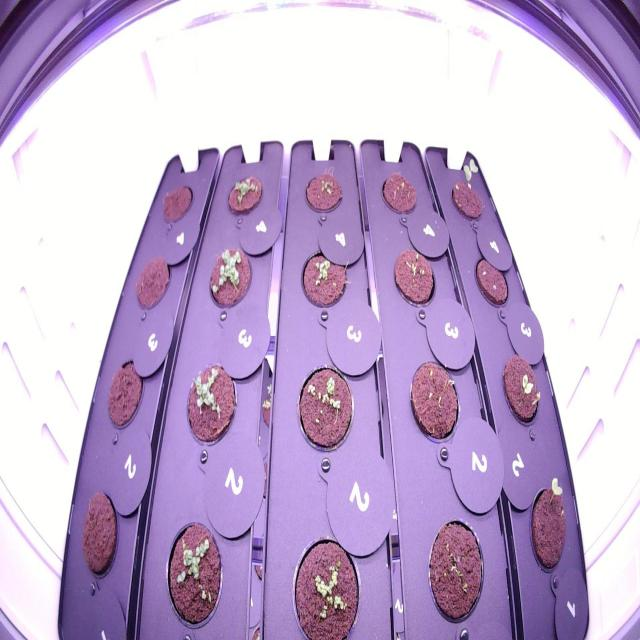germination: (285, 528, 365, 640), (159, 514, 227, 636), (292, 358, 358, 457), (179, 352, 241, 455), (406, 349, 464, 452), (522, 469, 570, 580), (500, 347, 548, 438), (296, 240, 351, 317), (390, 239, 441, 317), (206, 240, 256, 318), (447, 152, 492, 229), (300, 164, 347, 225), (222, 163, 267, 221)
pod: (424, 510, 491, 626), (75, 484, 124, 590), (102, 350, 148, 439), (132, 249, 174, 316), (471, 250, 512, 312), (378, 163, 420, 221), (156, 177, 199, 231)
